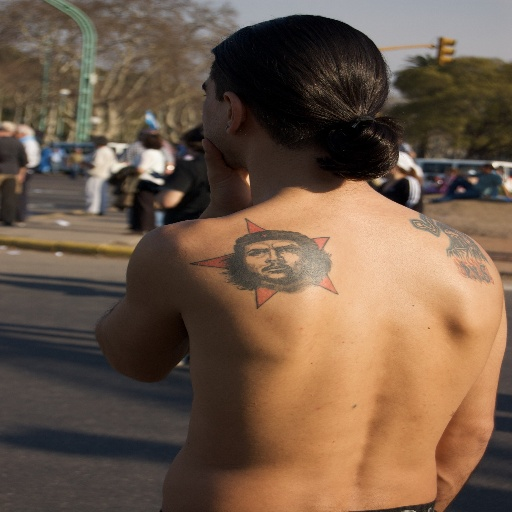hand: (202, 136, 252, 194)
